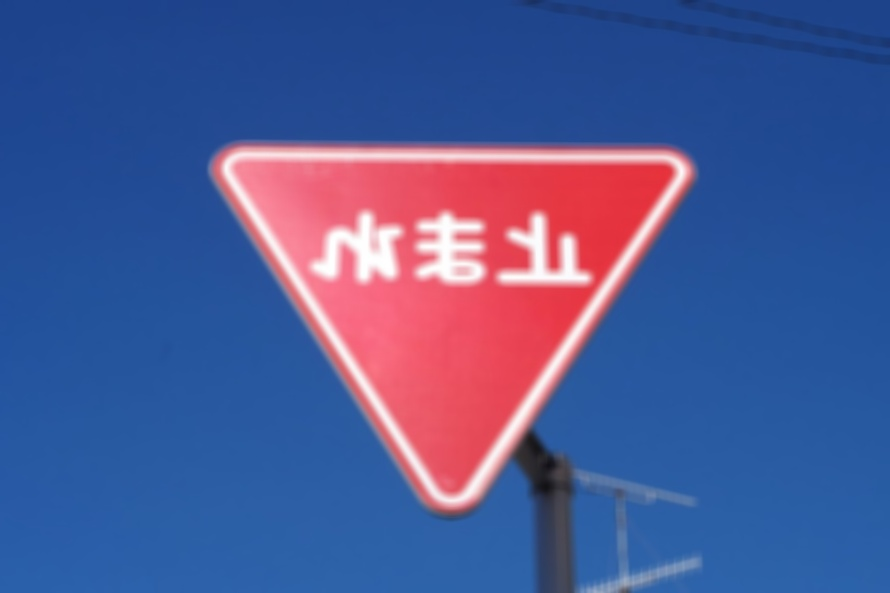Regulatory_sign_triangle: (214, 115, 699, 511)
